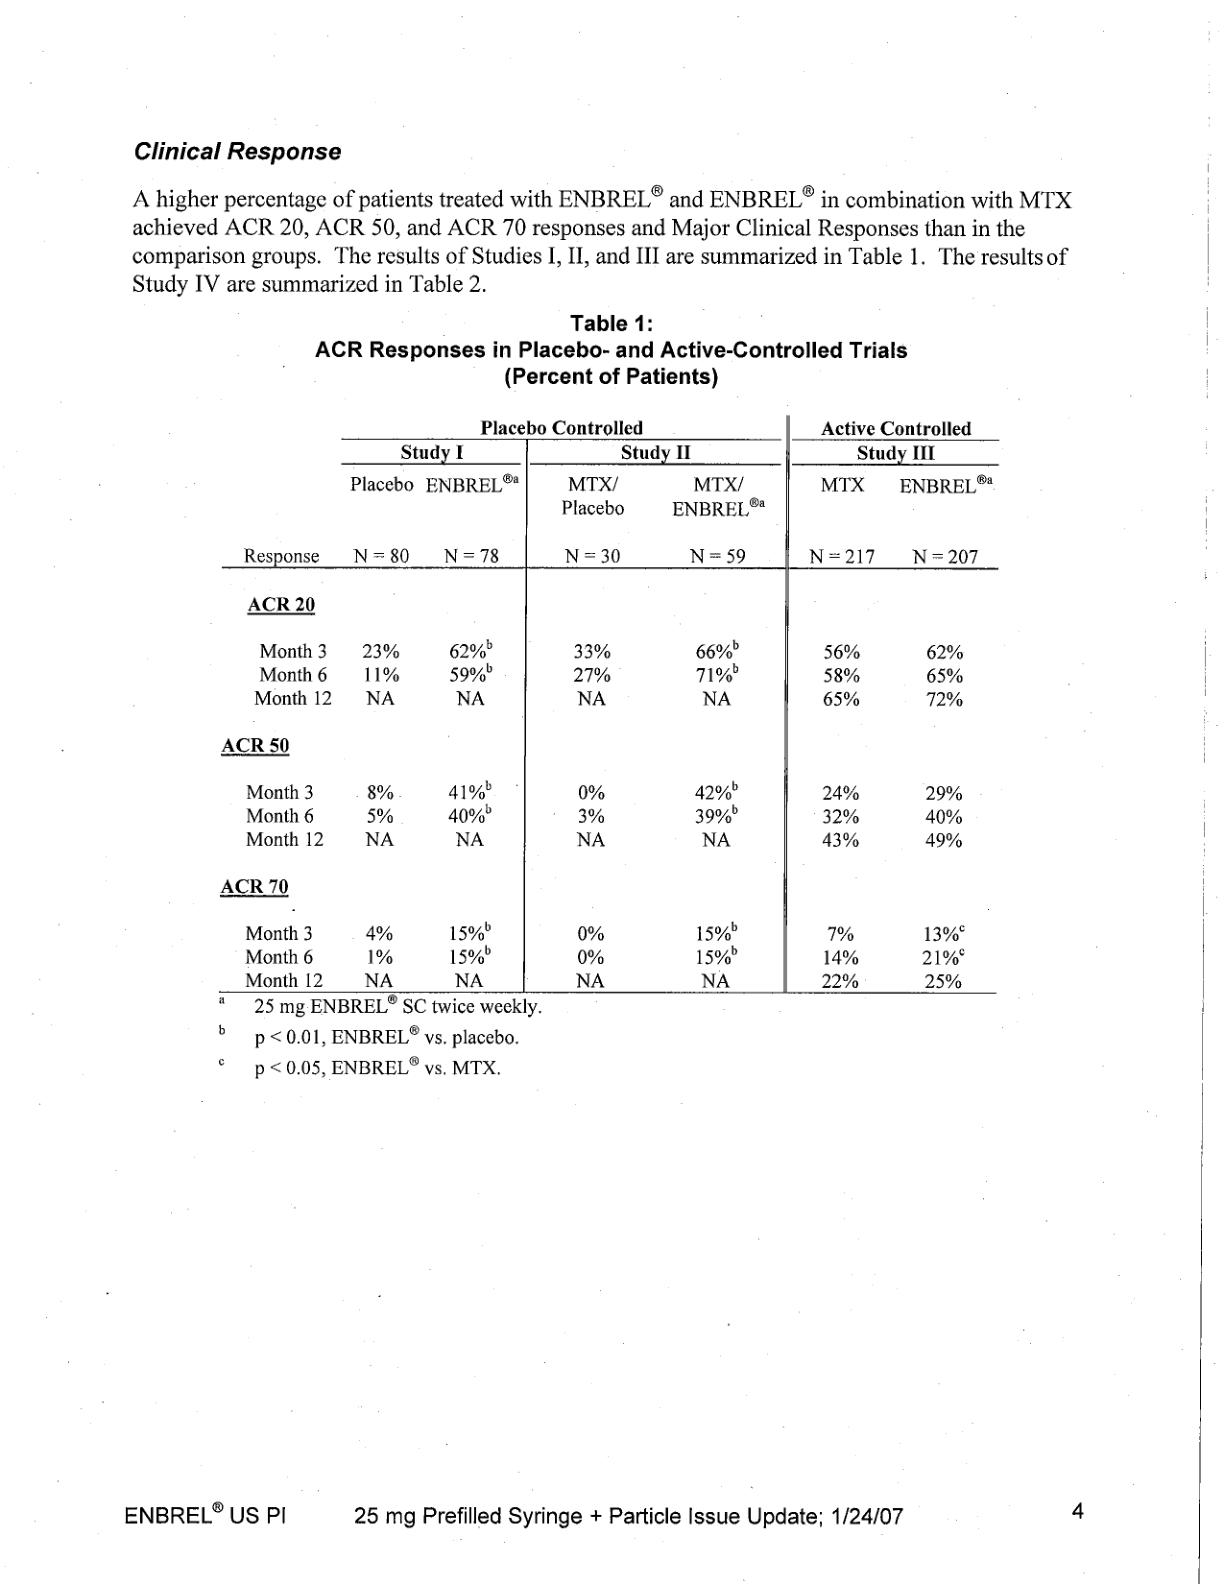partial_lined_merged_cells: (217, 411, 999, 995)
